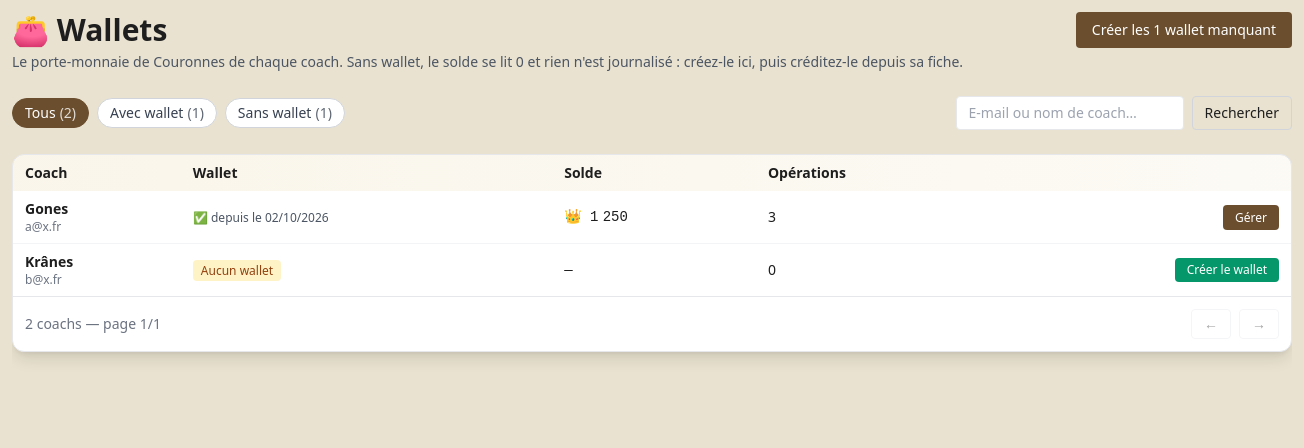
Test case: AdminWalletsPage › crée tous les wallets manquants après confirmation
This screenshot has width=1304, height=448.
Expected: the row with test id "wallet-row-u1" is shown, [13,191,1291,244]
What coordinates should you click on to do the following:
click the button with test id "wallets-create-missing"
I would click on:
 (1184, 30)
Its box is [1076,12,1292,48].
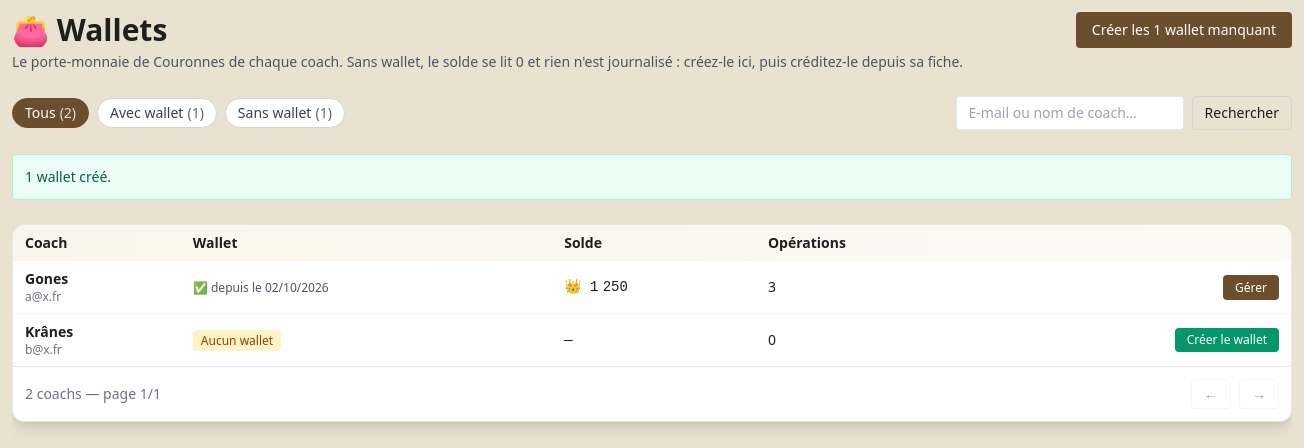
Expected: the message with test id "wallets-notice" reads "1 wallet créé.", [25,167,111,186]
